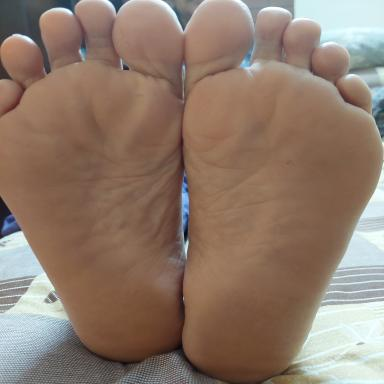normal skin: (182, 0, 382, 383), (1, 0, 185, 361)
